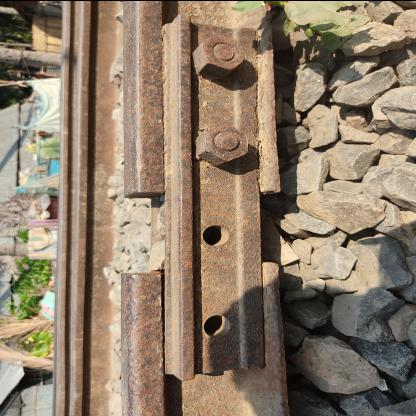Defective 2: (112, 146, 206, 318)
Defective 3: (164, 7, 284, 384)
